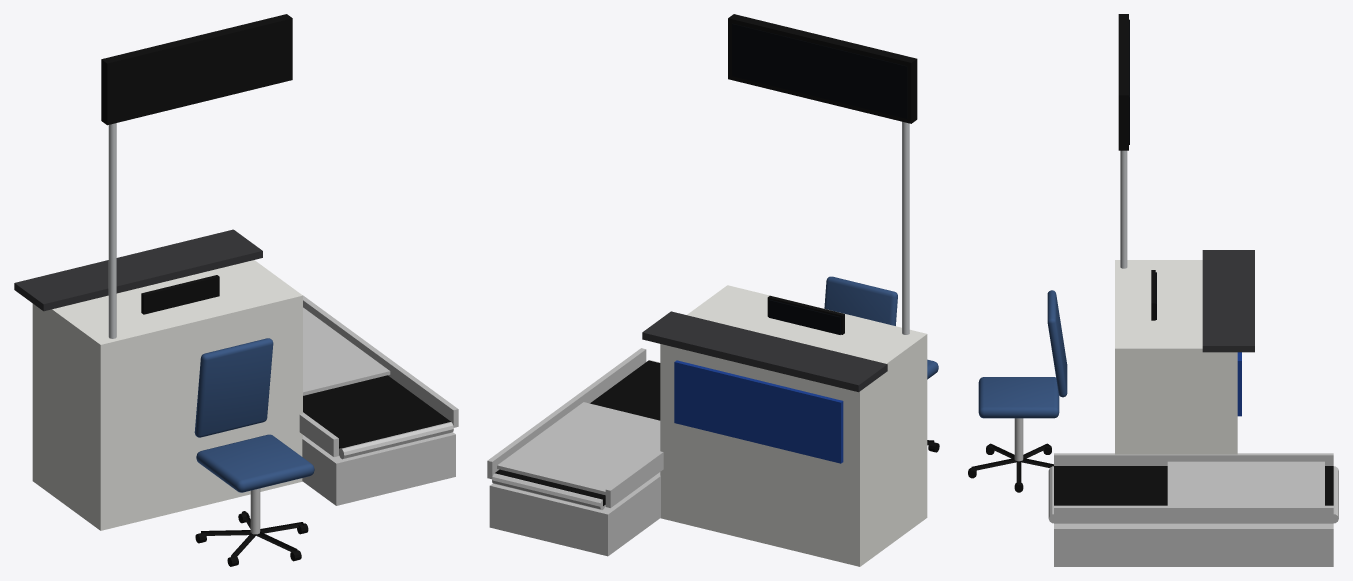
Rendered from airport.landside.checkin_desk.glb.
3 renders of one model, left to right at view 1: azimuth 30°, elevation 25°; view 2: azimuth 150°, elevation 25°; view 3: azimuth 270°, elevation 25°, orthographic. The views are drawn at different scales.
Parts seen in each view (by area): view 1: desks__laminate_white, belts__steel_stainless, signage__plastic_black, desks__fabric_blue, desks__worktop, belts__rubber, desks__plastic_black, signage__aluminium; view 2: desks__laminate_white, belts__steel_stainless, desks__plastic_blue, signage__screen, desks__worktop, signage__plastic_black, belts__rubber, desks__fabric_blue, signage__aluminium, desks__screen, desks__plastic_black; view 3: belts__steel_stainless, desks__laminate_white, desks__worktop, belts__rubber, desks__fabric_blue, signage__plastic_black, desks__plastic_black, signage__aluminium.
Boxes of the visible parts, x1,y1,x2,y2 form: desks__laminate_white: [32, 260, 302, 530]; belts__steel_stainless: [299, 295, 458, 505]; signage__plastic_black: [101, 14, 292, 125]; desks__fabric_blue: [194, 338, 314, 492]; desks__worktop: [14, 229, 262, 311]; belts__rubber: [303, 375, 450, 448]; desks__plastic_black: [141, 275, 308, 566]; signage__aluminium: [108, 123, 116, 338]; desks__laminate_white: [660, 285, 927, 566]; belts__steel_stainless: [487, 348, 663, 556]; desks__plastic_blue: [674, 360, 843, 463]; signage__screen: [732, 23, 907, 118]; desks__worktop: [642, 311, 887, 392]; signage__plastic_black: [728, 14, 917, 123]; belts__rubber: [495, 360, 660, 505]; desks__fabric_blue: [824, 276, 938, 379]; signage__aluminium: [902, 121, 909, 334]; desks__screen: [768, 299, 840, 334]; desks__plastic_black: [767, 295, 939, 452]; belts__steel_stainless: [1048, 453, 1338, 566]; desks__laminate_white: [1115, 260, 1237, 454]; desks__worktop: [1202, 250, 1254, 352]; belts__rubber: [1054, 466, 1333, 505]; desks__fabric_blue: [978, 290, 1067, 418]; signage__plastic_black: [1118, 14, 1128, 150]; desks__plastic_black: [968, 270, 1155, 492]; signage__aluminium: [1120, 150, 1127, 268].
Bounding box in the file's own units: 1.97 × 2.63 × 2.12.
